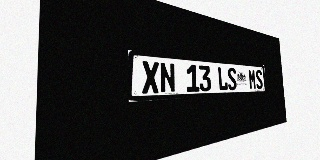1: (186, 64, 199, 92)
3: (199, 65, 211, 91)
L: (217, 67, 228, 91)
M: (248, 69, 256, 89)
N: (159, 62, 176, 93)
S: (227, 67, 237, 90), (255, 69, 263, 89)
X: (141, 61, 160, 94)
